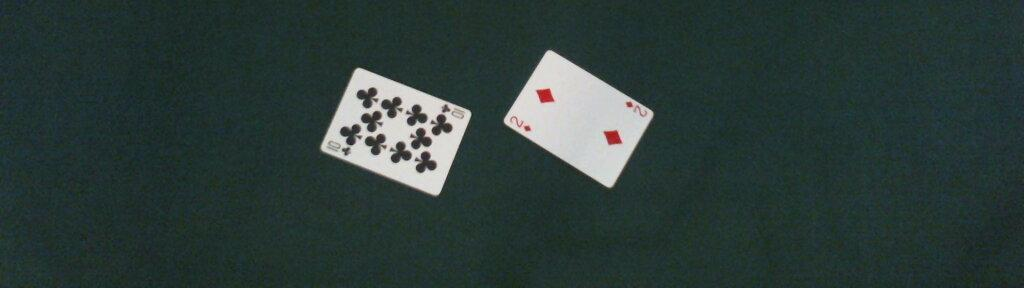ten: (318, 66, 472, 197)
two: (501, 49, 654, 189)
